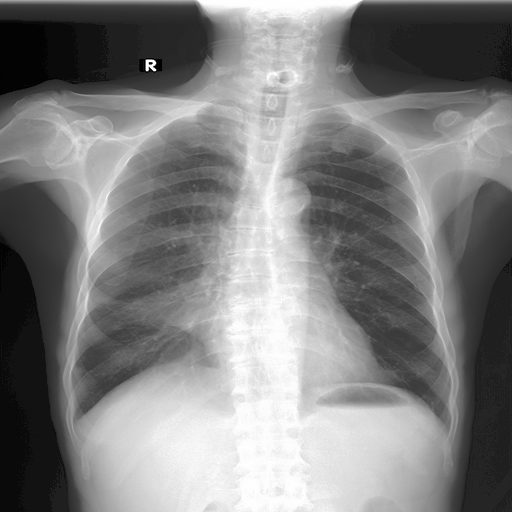Aortic enlargement: (141, 280, 221, 350)
Infiltration: (141, 280, 221, 350)
Pleural thickening: (137, 280, 210, 348)
